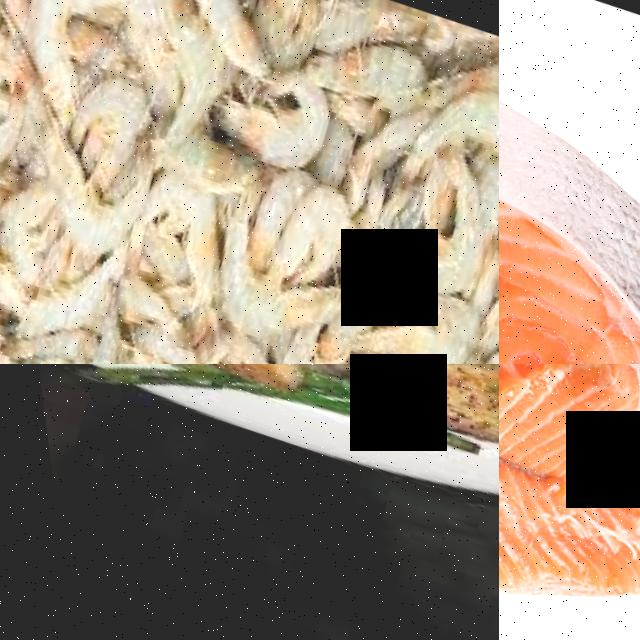salmon: (499, 0, 640, 364), (499, 378, 640, 640), (499, 364, 640, 539)
sea scallops: (384, 364, 499, 462), (161, 364, 311, 407)
shrimp: (195, 53, 342, 187), (46, 63, 160, 192), (250, 177, 360, 302), (298, 29, 430, 132), (193, 255, 307, 359), (359, 220, 481, 317), (368, 285, 477, 364), (38, 280, 137, 364), (233, 0, 338, 77), (422, 84, 499, 185), (263, 345, 377, 364)
